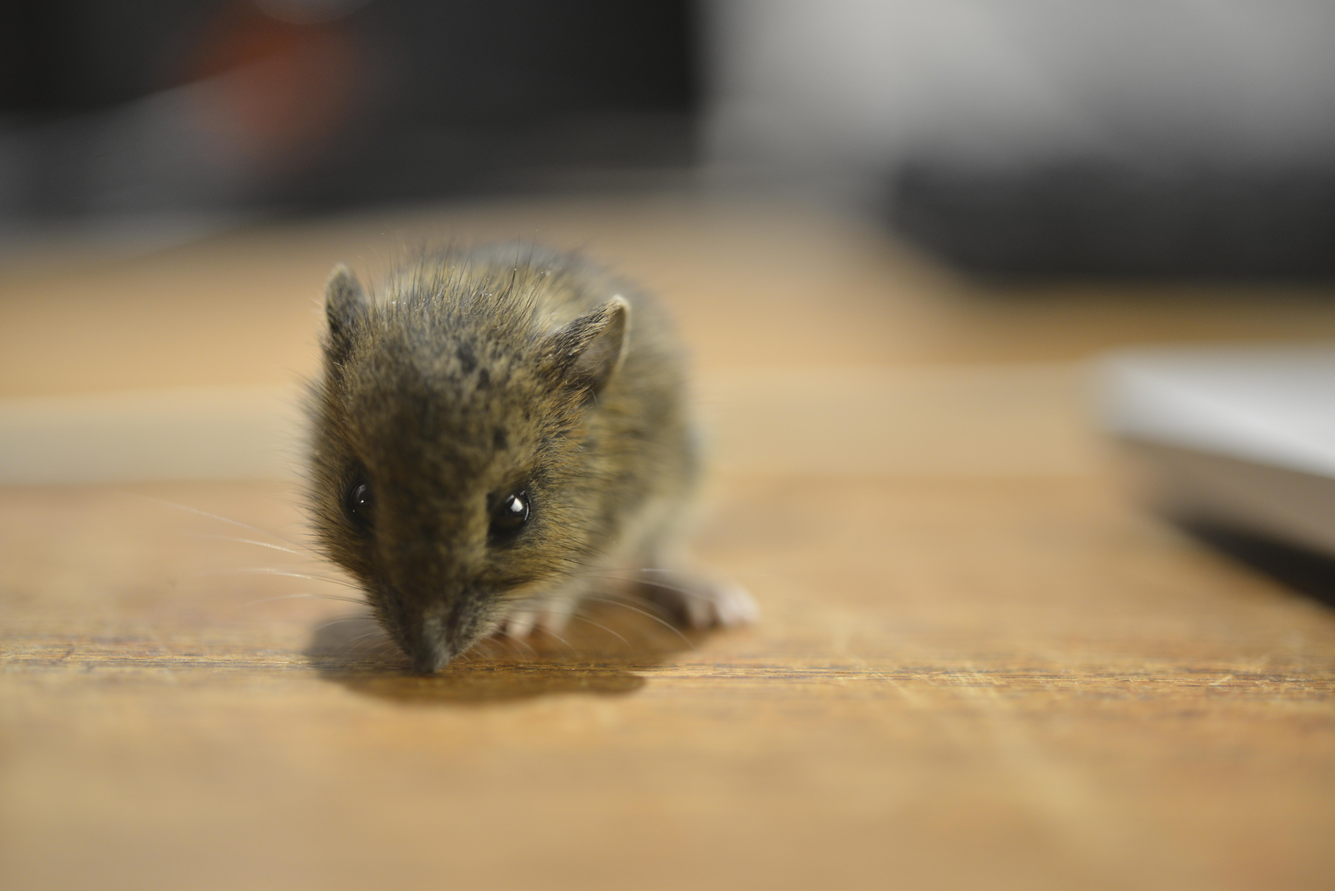rat: (311, 246, 755, 674)
